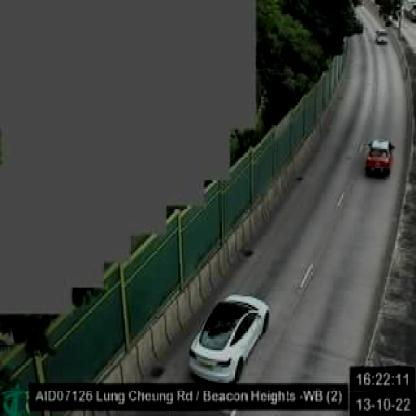Car: (191, 293, 270, 383), (365, 136, 394, 177), (376, 26, 388, 44)
